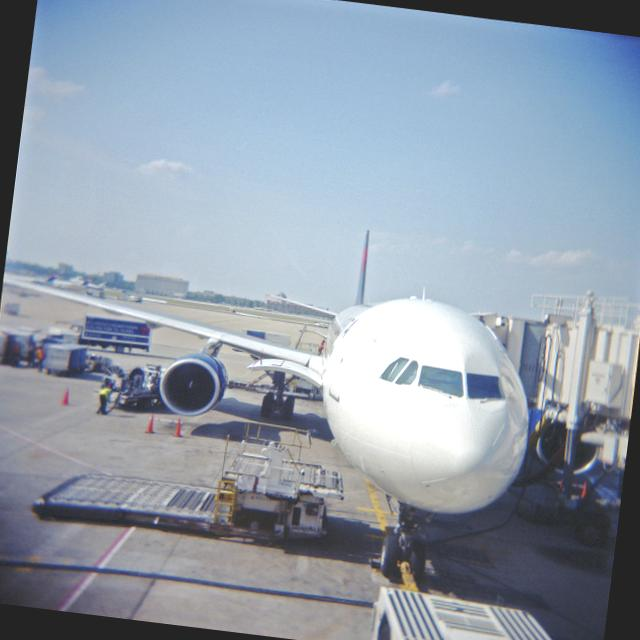Vehicle: (54, 308, 156, 359), (41, 340, 91, 380)
